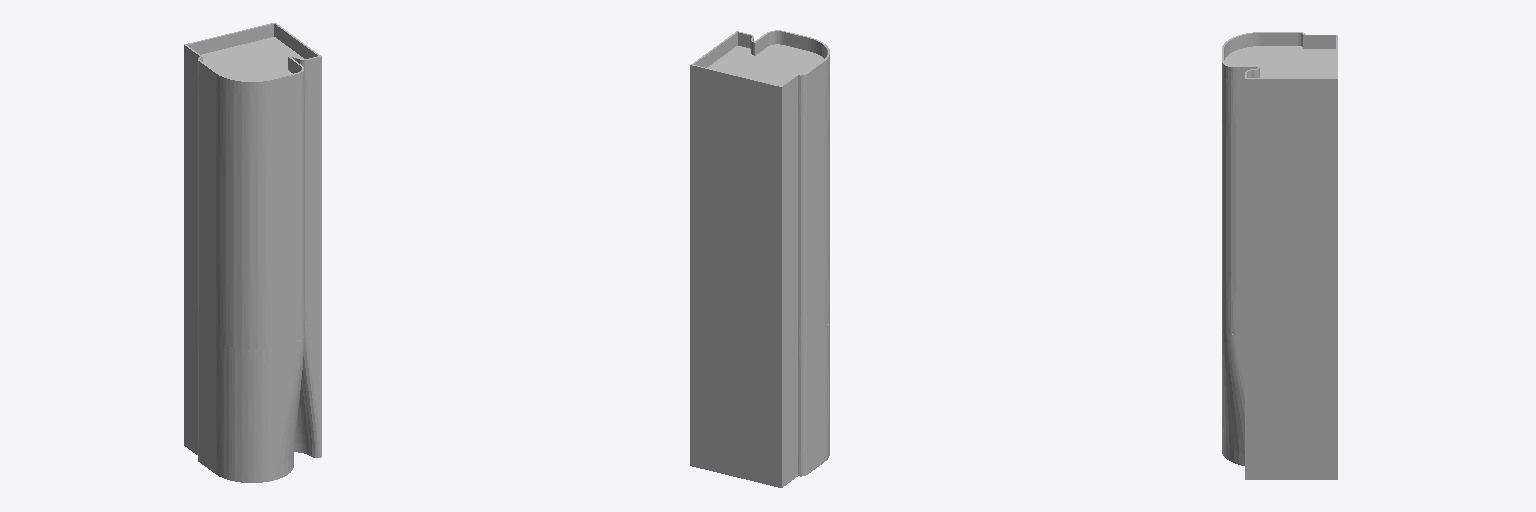
Rendered from sample_model.obj.
3 renders of one model, left to right at view 1: azimuth 30°, elevation 25°; view 2: azimuth 150°, elevation 25°; view 3: azimuth 270°, elevation 25°, orthographic.
Size of the model in its own units: 26200 by 103800 by 27350.